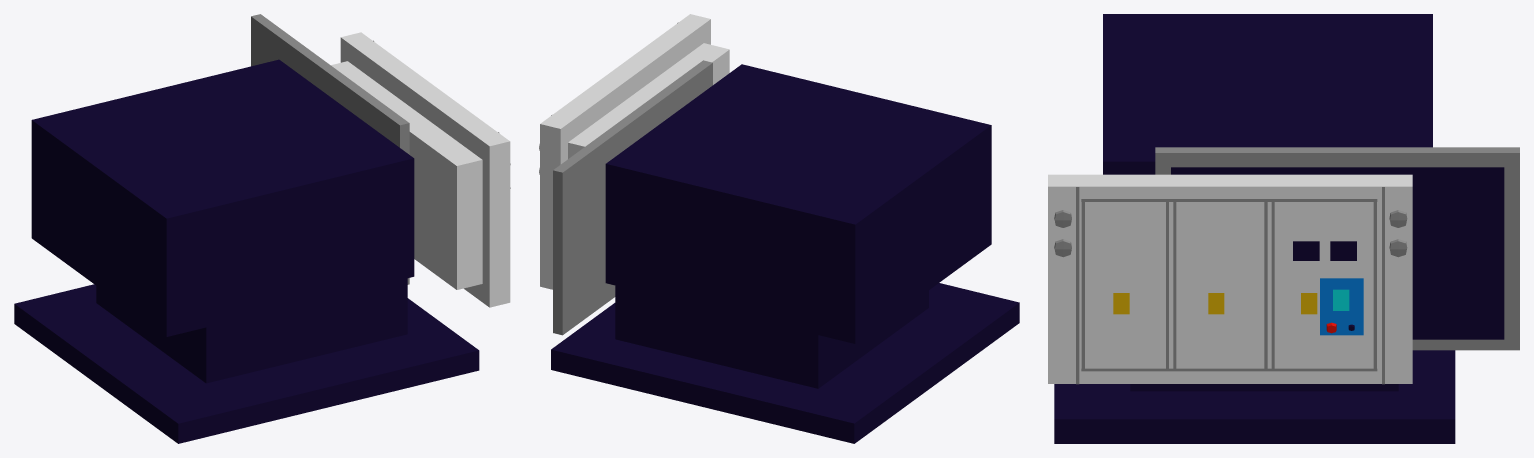
The model's file is waterStation.fbx.
3 renders of one model, left to right at view 1: azimuth 30°, elevation 25°; view 2: azimuth 150°, elevation 25°; view 3: azimuth 270°, elevation 25°, orthographic. The views are drawn at different scales.
Visible parts, largest first — view 1: waterStation; view 2: waterStation; view 3: waterStation.
Boxes of the visible parts, x1,y1,x2,y2 form: waterStation: (14,14,510,443); waterStation: (539,14,1019,443); waterStation: (1048,14,1519,443).
Size of the model in its own units: 29.05 by 18.63 by 29.06.
